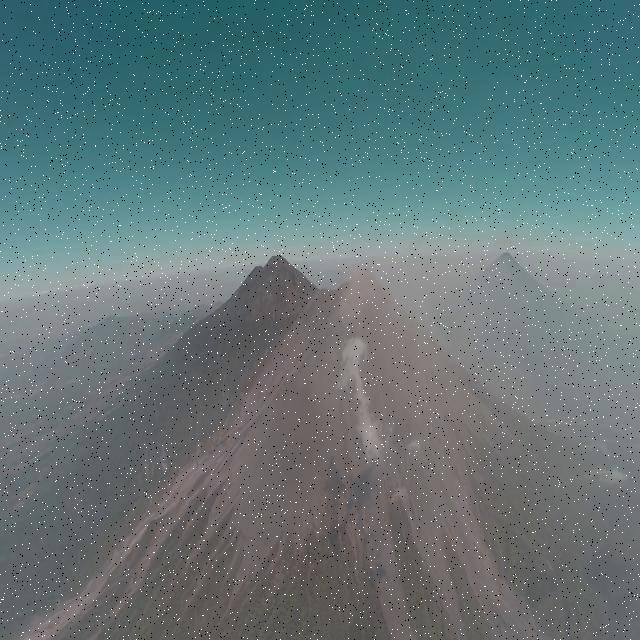Summit: (336, 264, 398, 306)
